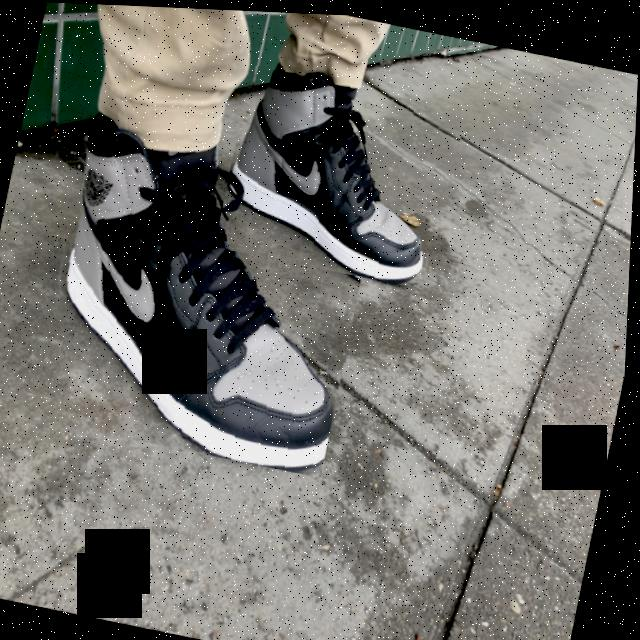shoe: (19, 94, 389, 477), (216, 44, 473, 288)
